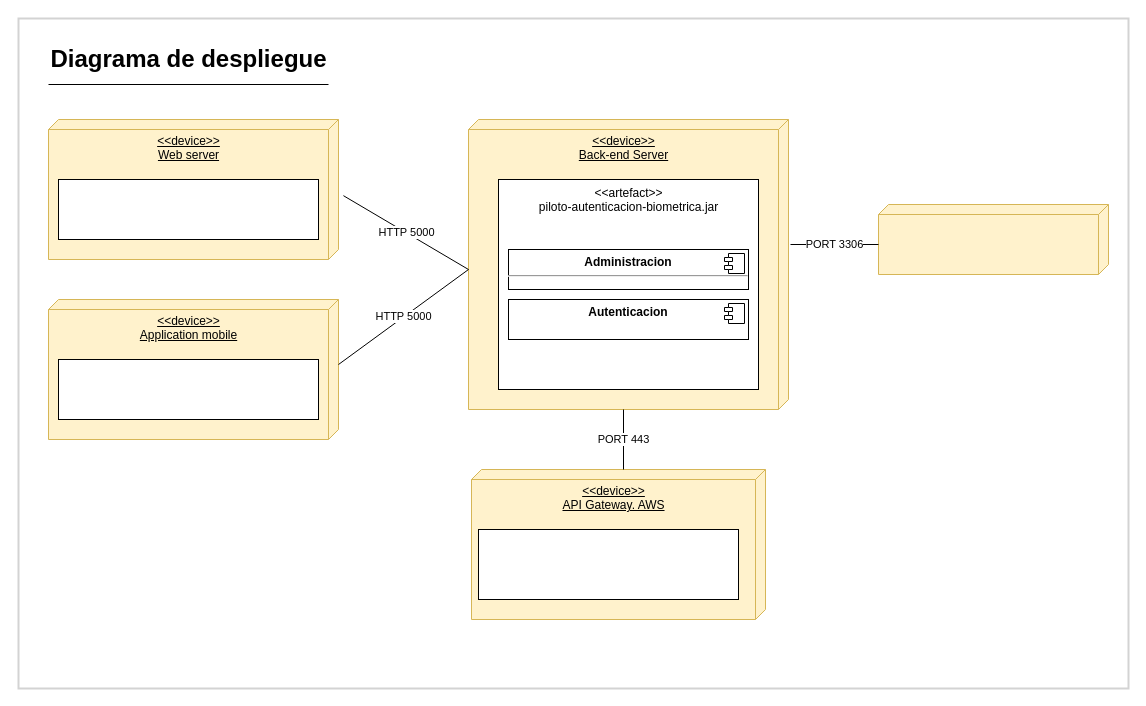
The diagram is 1146 pixels wide and 706 high, and some of its shapes have lost their labels. Each missing label, with the centre of its shape:
<<artefact>> autenticacion web APP: [188,389]
<<artefact>> autenticacion-biometrica-web: [188,209]
<<artefact>> proceso-autenticacion-biometrica Lambda. AWS: [608,564]
<<Device>> AWS RDS autenticacion-biometrica-{{perfil}}: [993,239]
